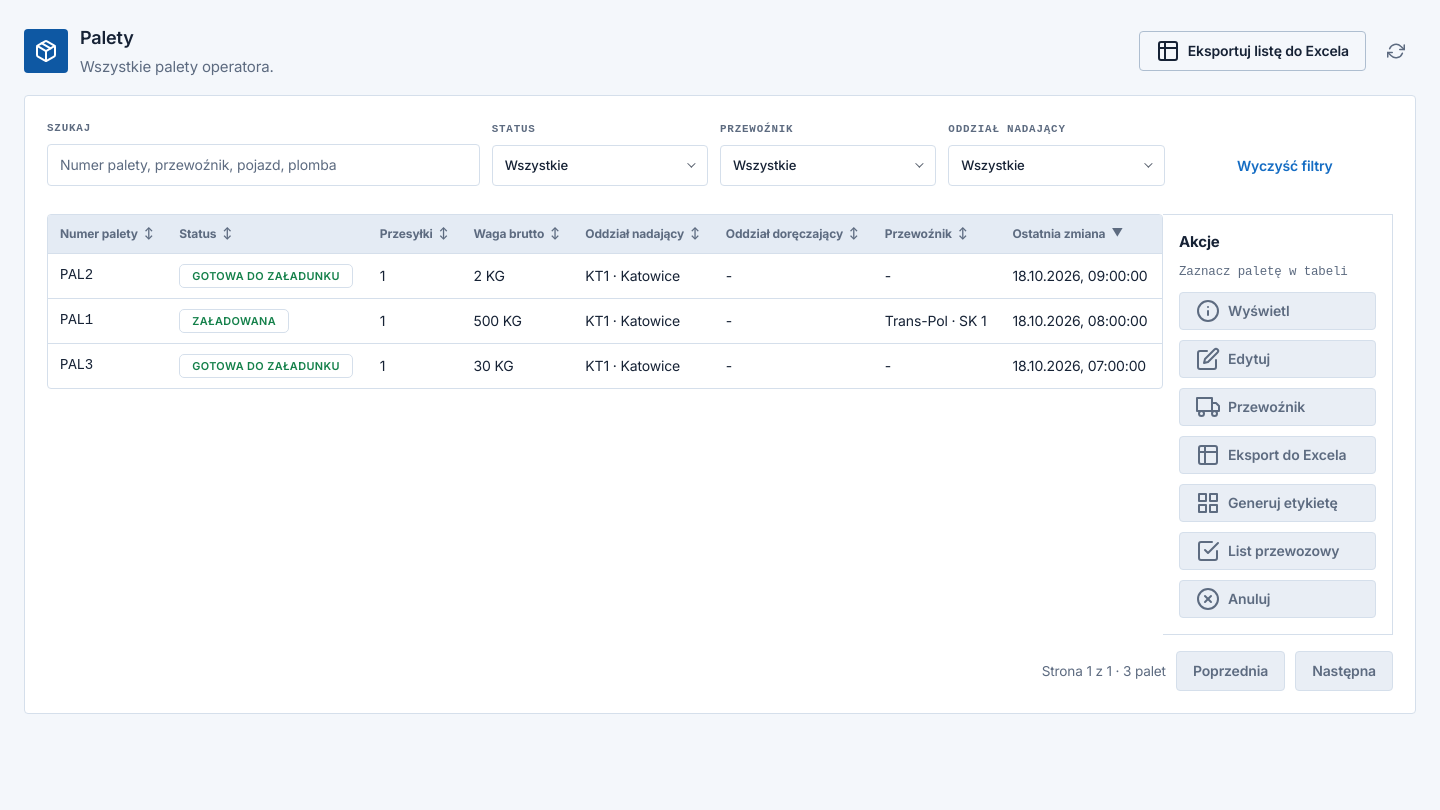
Test: PalletList › filters by text, status and carrier
expect the text "PAL1" is shown: met, box [48,298,167,343]
In the field labelled "Szukaj": x=263, y=164 [47,144,480,186], type "trans"
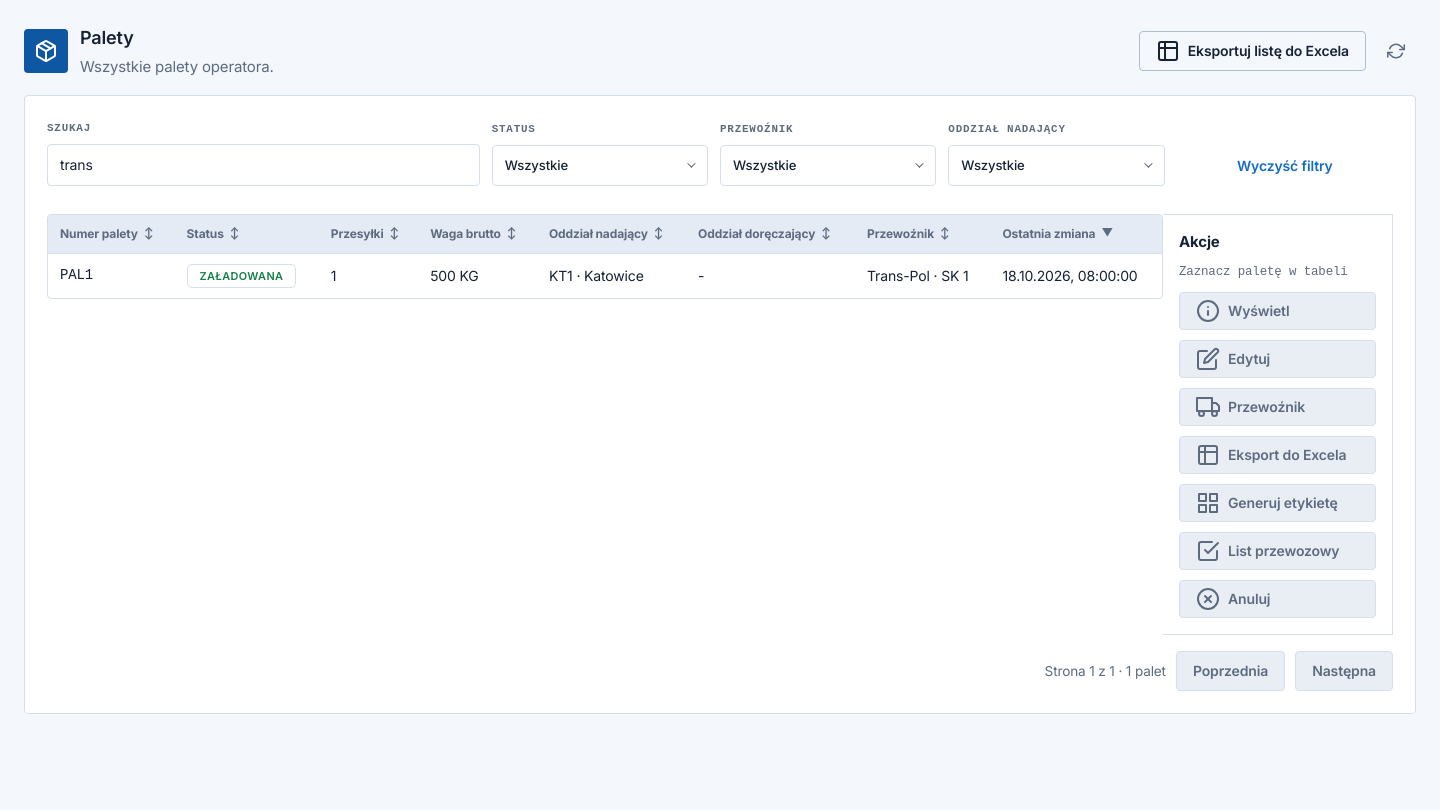
Clear the field labelled "Szukaj": x=263, y=164 [47,144,480,186]
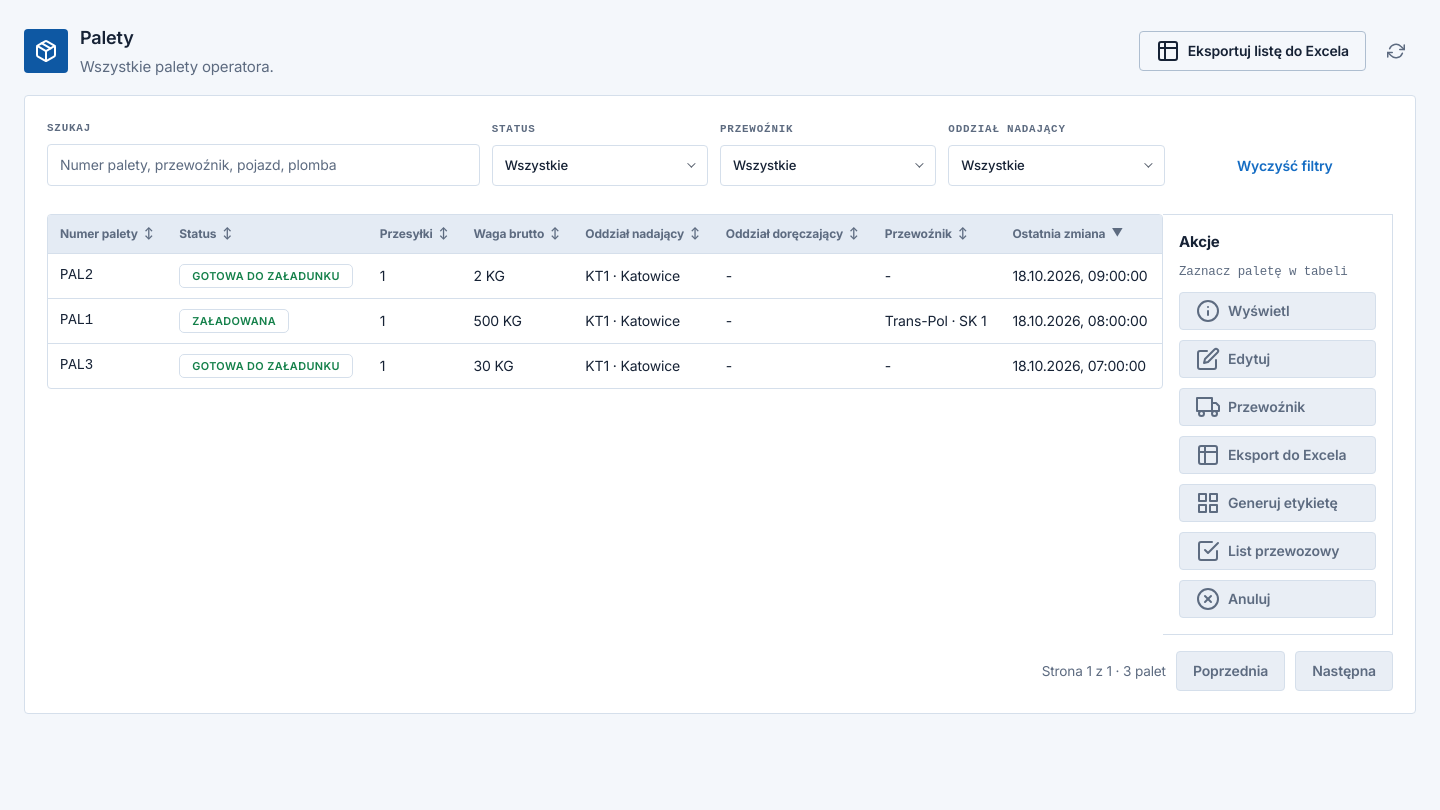
Replace the text in the dropdown named "Przewoźnik" with "WITHOUT": x=828, y=165 [721,146,935,184]
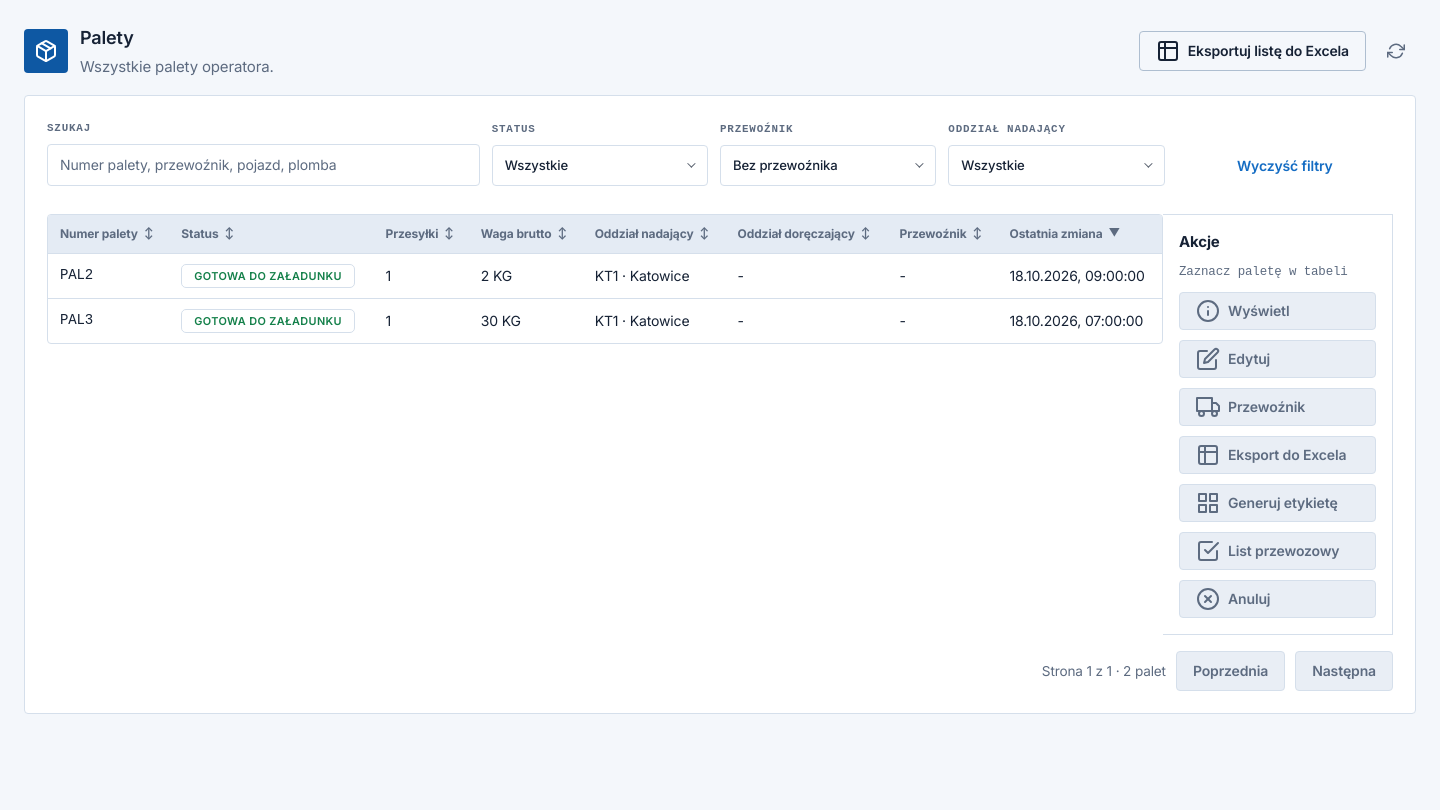
Replace the text in the dropdown named "Status" with "LOADED": x=600, y=165 [493,146,707,184]
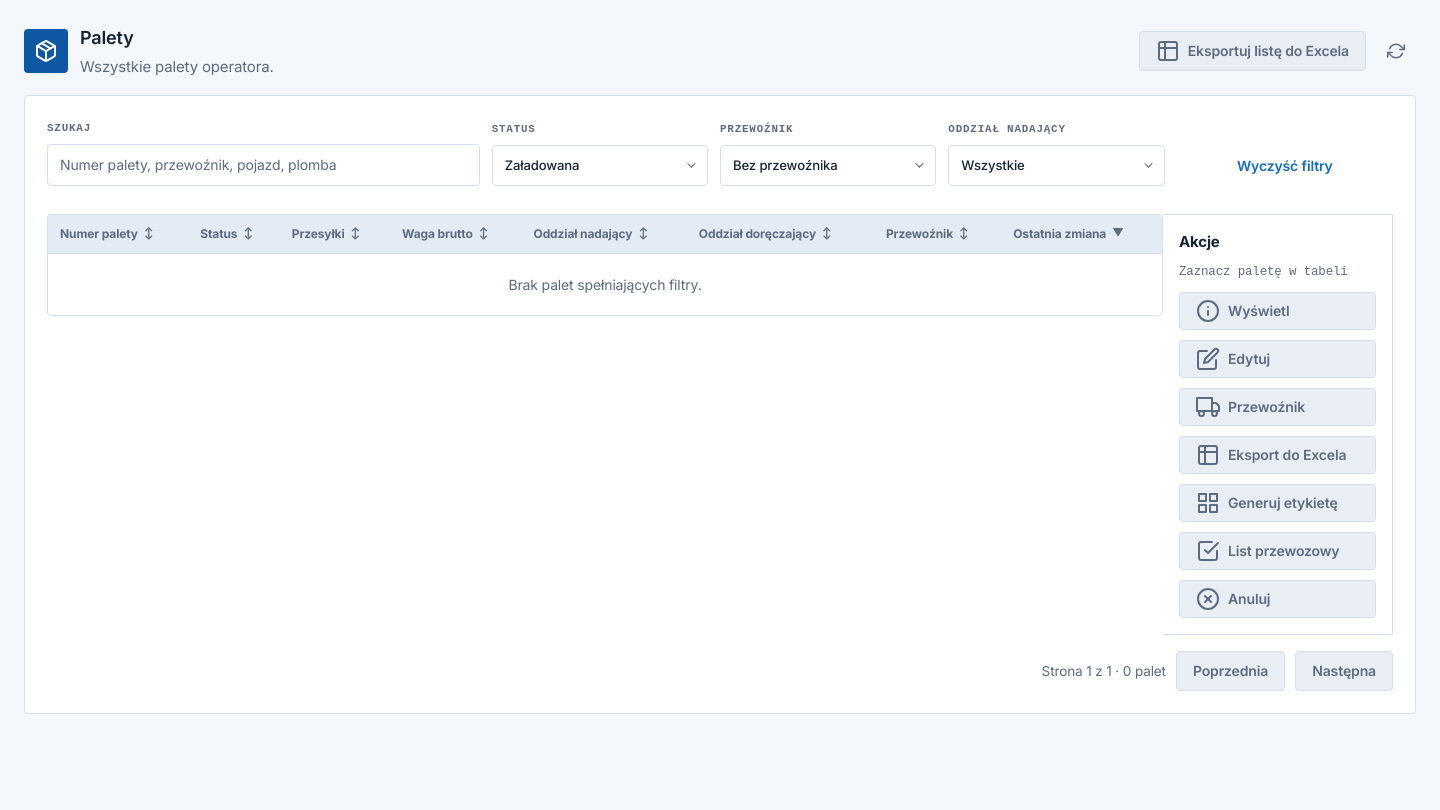
expect the text "Brak palet spełniających filtry." is shown: met, box [48,253,1162,314]
